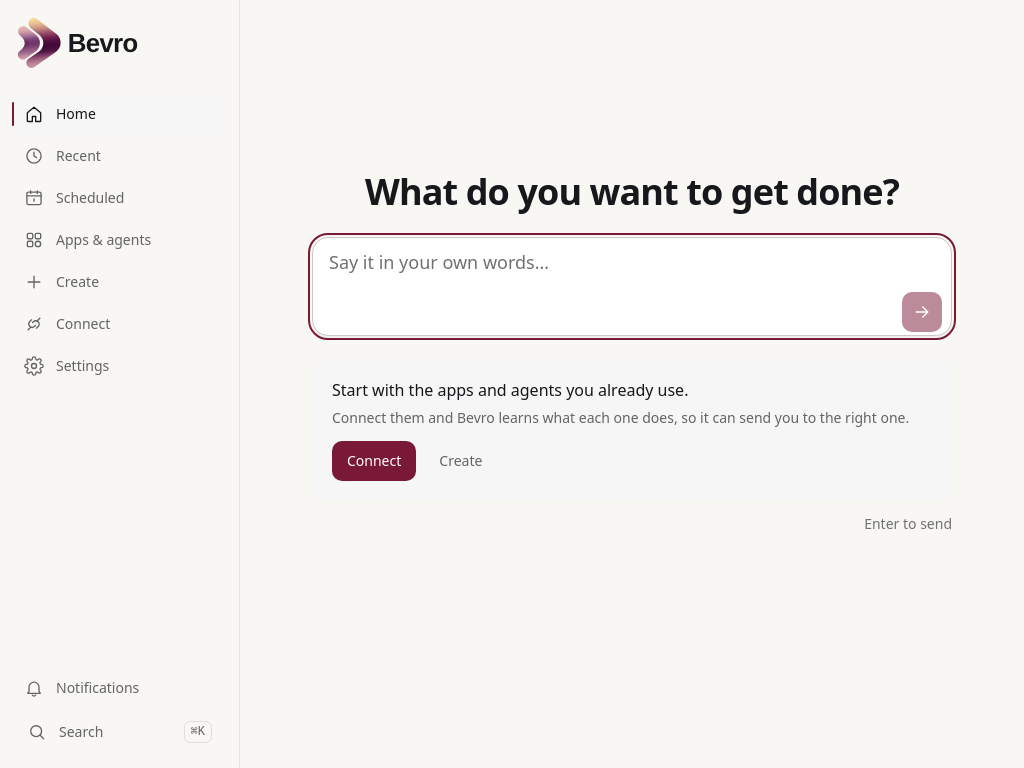
Scenario: when nothing can take the request, Home says so and offers Connect and Create
The width and height of the screenshot is (1024, 768).
Type "Write a poem about autumn" into the text box named "What do you want to get done?".
click(632, 286); type("Write a poem about autumn")  # box top-left (312, 237), bottom-right (952, 336)
Then press Enter
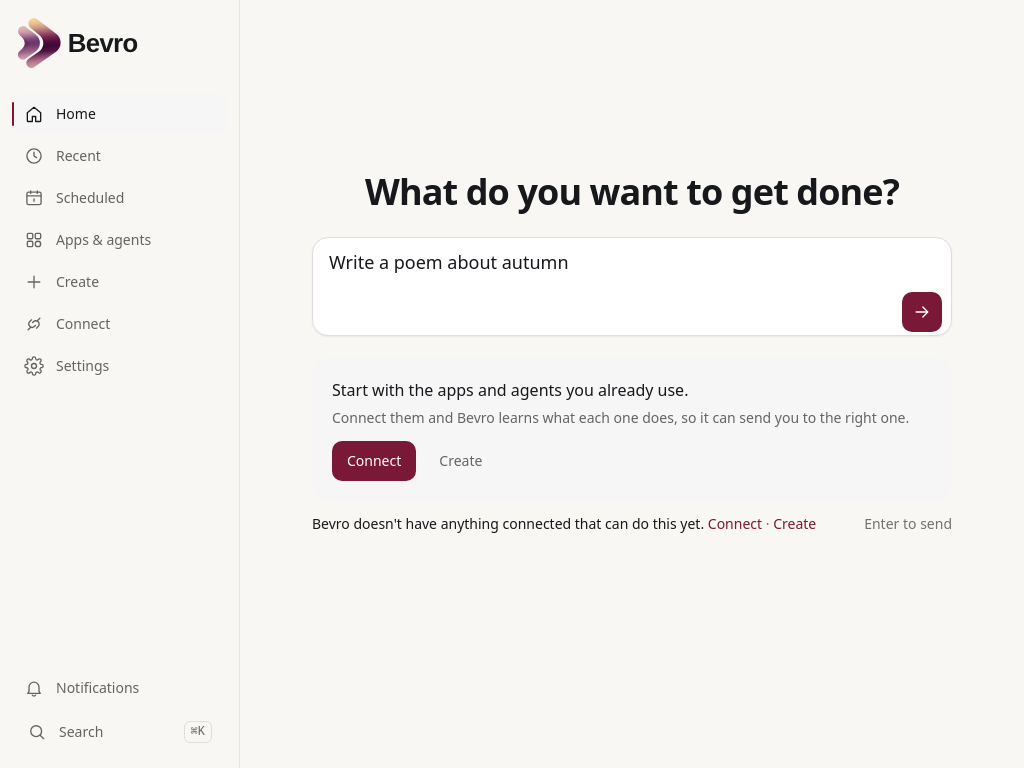
Check: the message shows "Bevro doesn't have anything connected that can do this yet.", box top-left (312, 514), bottom-right (704, 533)
